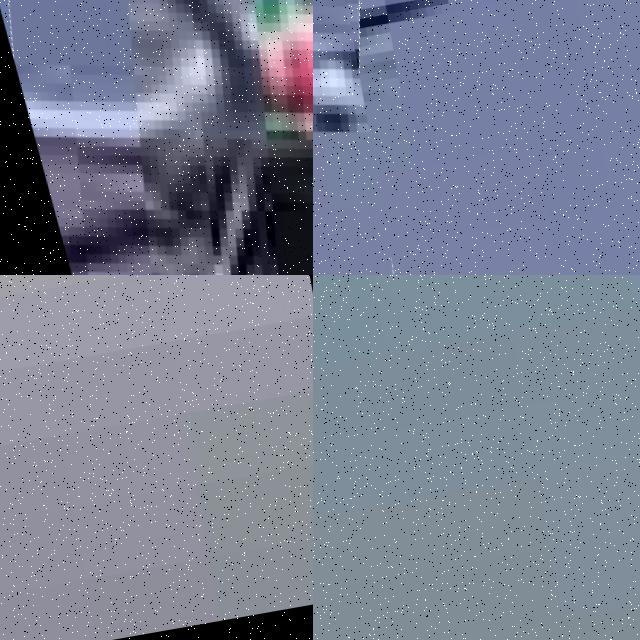drone: (0, 0, 313, 275), (313, 0, 435, 275)
